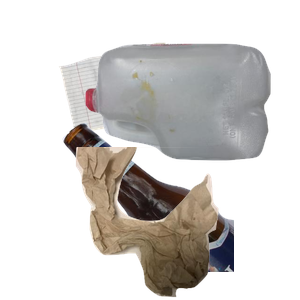glass: (60, 120, 300, 300)
paper: (56, 40, 229, 166)
plastic: (83, 41, 300, 194)
trash: (73, 147, 300, 300)
